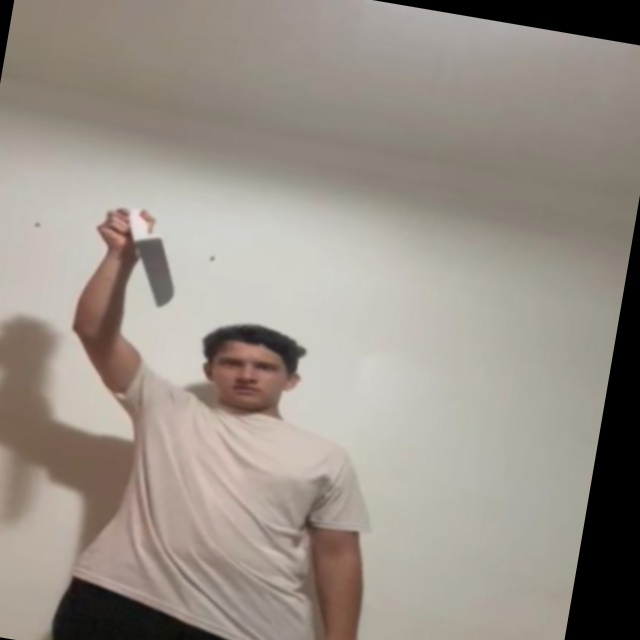Sharp-Object: (130, 235, 188, 311)
